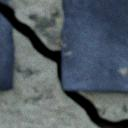brick: (60, 0, 127, 92)
broken_brick: (0, 14, 14, 90), (0, 0, 11, 6)
crack: (0, 2, 127, 127)
